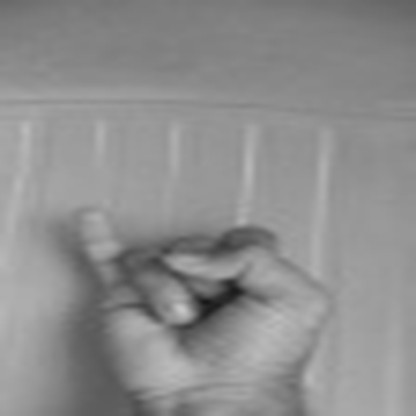i: (60, 177, 367, 416)
